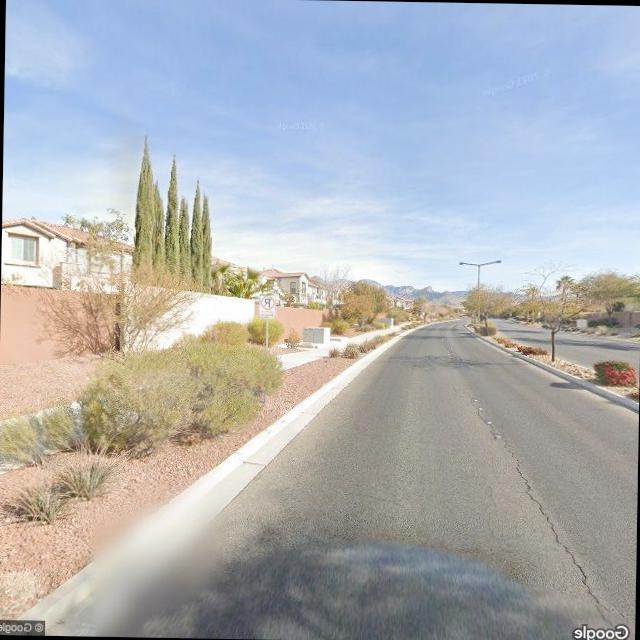pothole: (471, 400, 622, 618)
